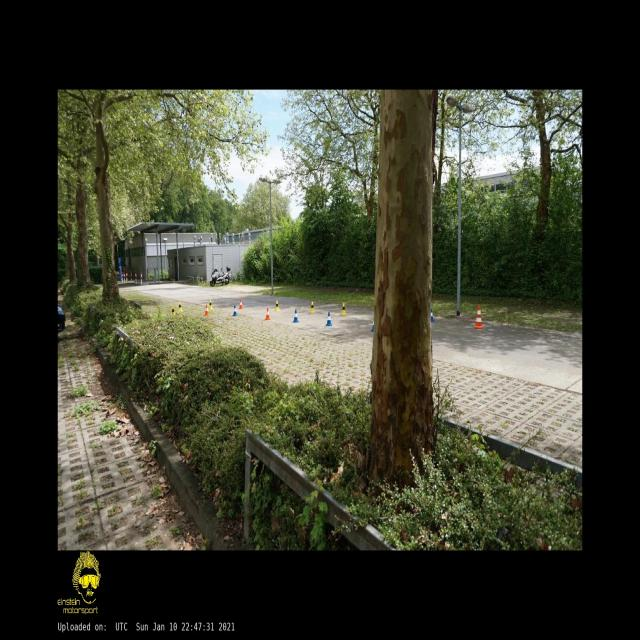blue_cone: (326, 312, 332, 326), (293, 310, 299, 322), (371, 318, 375, 332), (233, 305, 237, 316), (431, 308, 434, 322)
large_orange_cone: (474, 304, 483, 329)
orange_cone: (204, 304, 210, 316), (265, 308, 270, 320), (239, 299, 242, 309)
yellow_cone: (310, 301, 315, 313), (341, 303, 346, 315), (171, 305, 176, 315), (178, 302, 183, 312), (275, 300, 279, 311), (208, 300, 212, 310)
